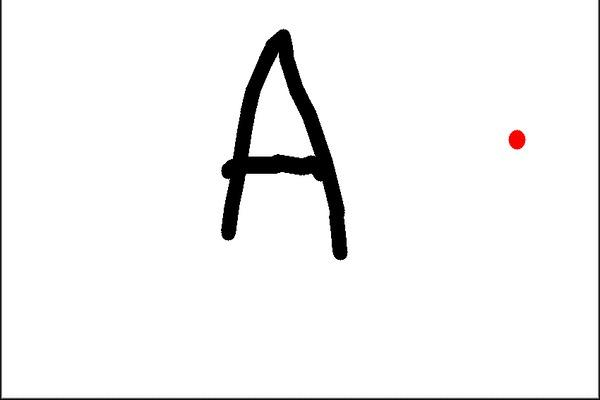A: (210, 20, 360, 265)
